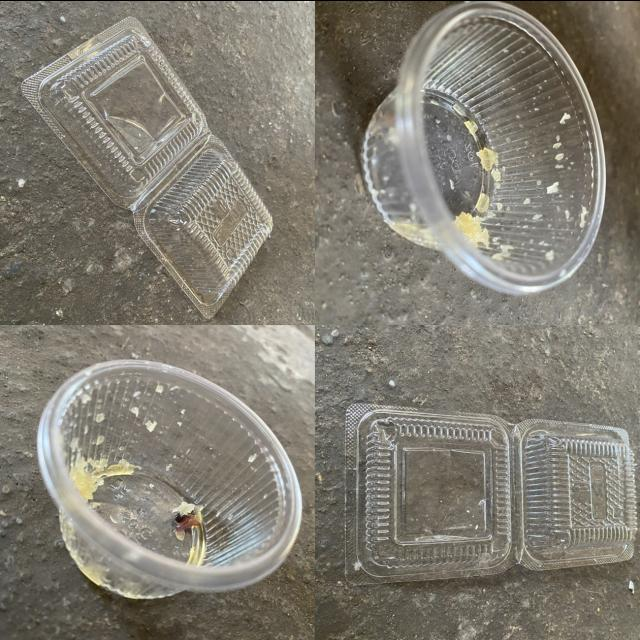plastik: (22, 15, 273, 318), (362, 0, 606, 294), (38, 360, 302, 597), (346, 403, 637, 583)
